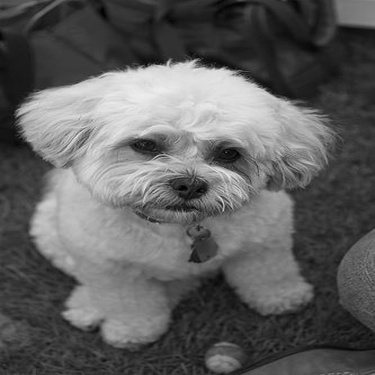dog: (16, 47, 346, 355)
